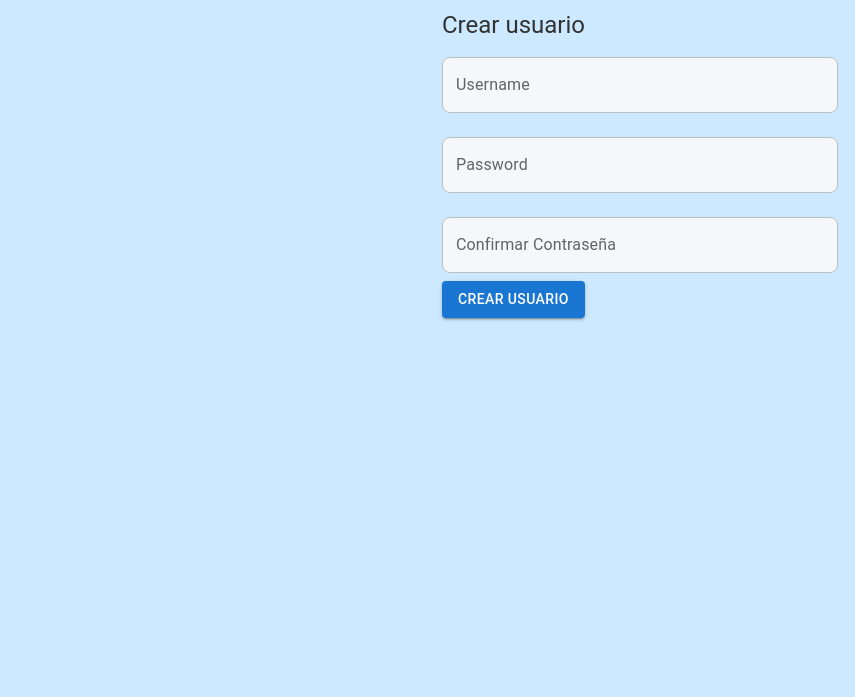
AddUser component › muestra error si las contraseñas no coinciden
Type "testUser" into the field labelled "Username". click: [640, 85]
box: [442,57,838,113]
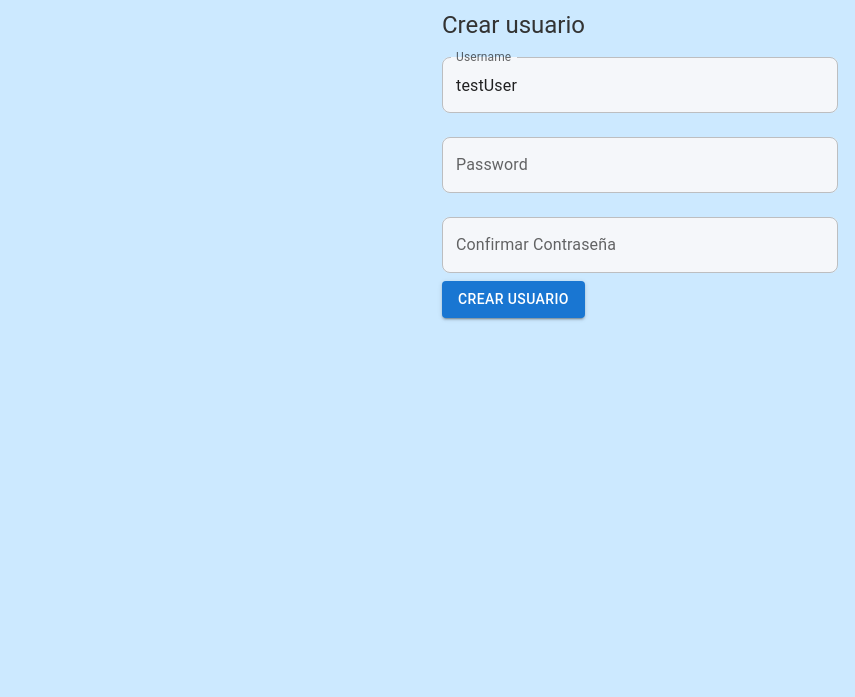
Type "123" into the password field labelled "Password". click: [640, 165]
box: [442,137,838,193]
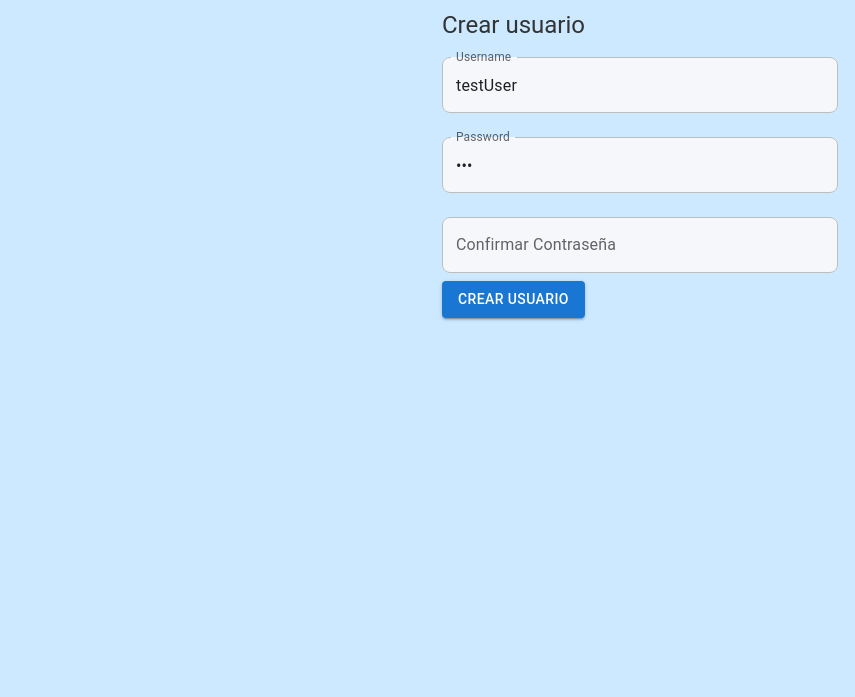
Type "456" into the password field labelled "Confirmar Contraseña". click: [640, 245]
box: [442,217,838,273]
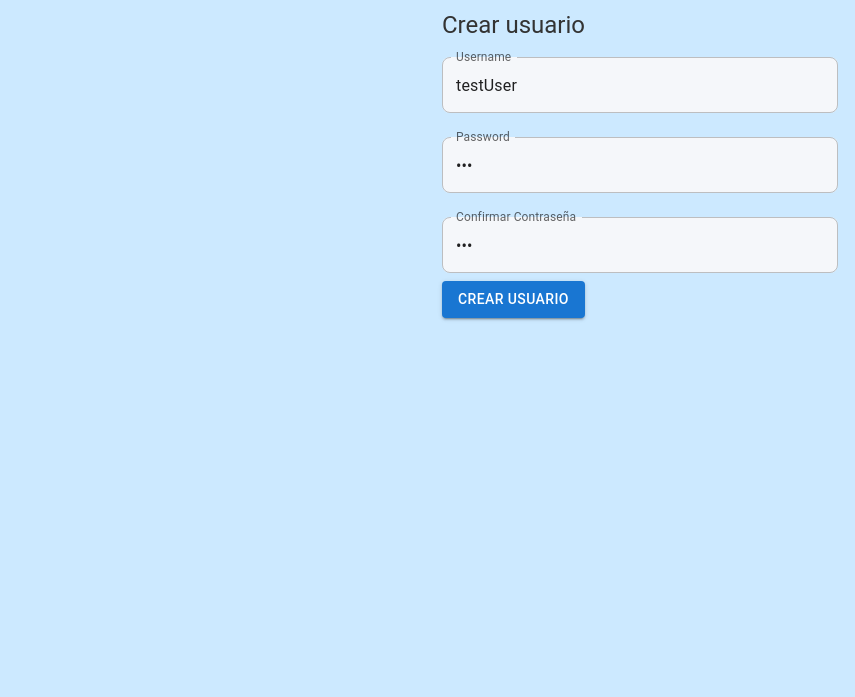
Click the button "Crear usuario". click: [513, 299]
box: [442,281,585,318]
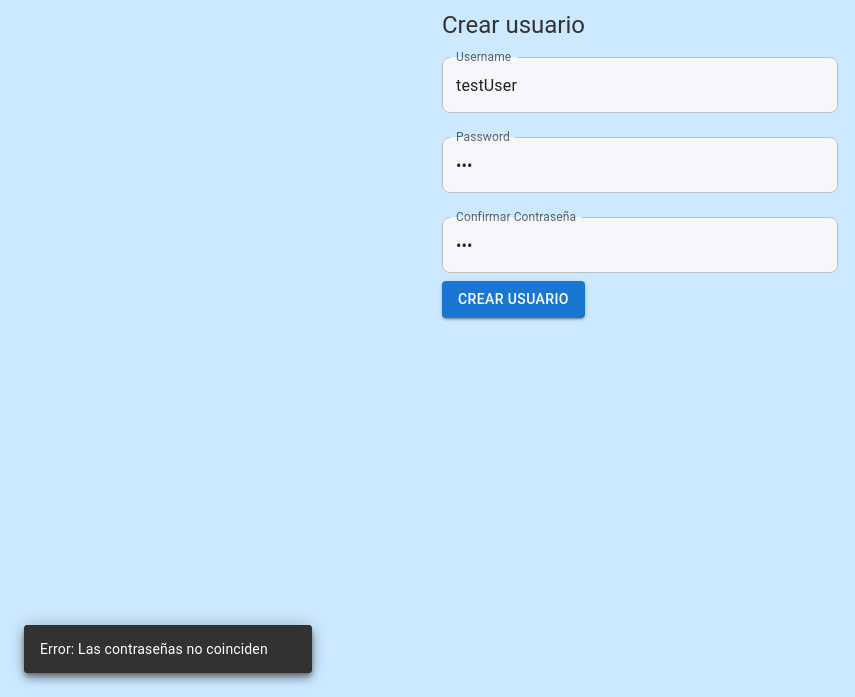
Result: the text "Error: Las contraseñas no coinciden" is shown at [40,641,268,657]
